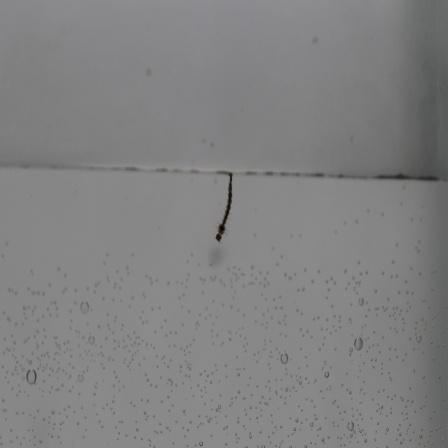Jentik-Nyamuk: (212, 171, 238, 247)
